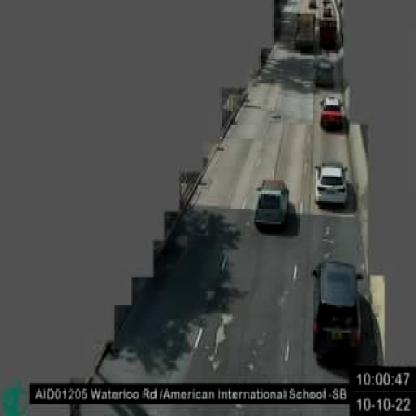Car: (312, 263, 364, 360), (252, 176, 288, 230), (315, 162, 349, 207), (321, 94, 344, 127), (316, 59, 336, 86)
Truck: (295, 3, 318, 47), (318, 4, 338, 53)
